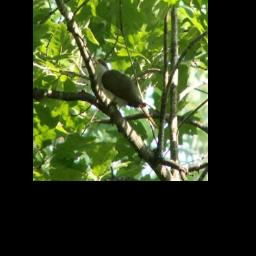Cuckoo: (90, 56, 159, 130)
